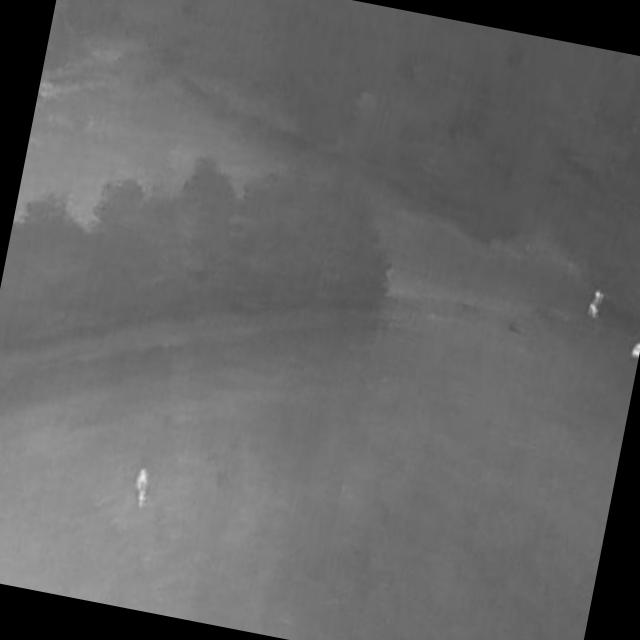person: (130, 467, 155, 511), (585, 289, 607, 323), (630, 340, 640, 361)
